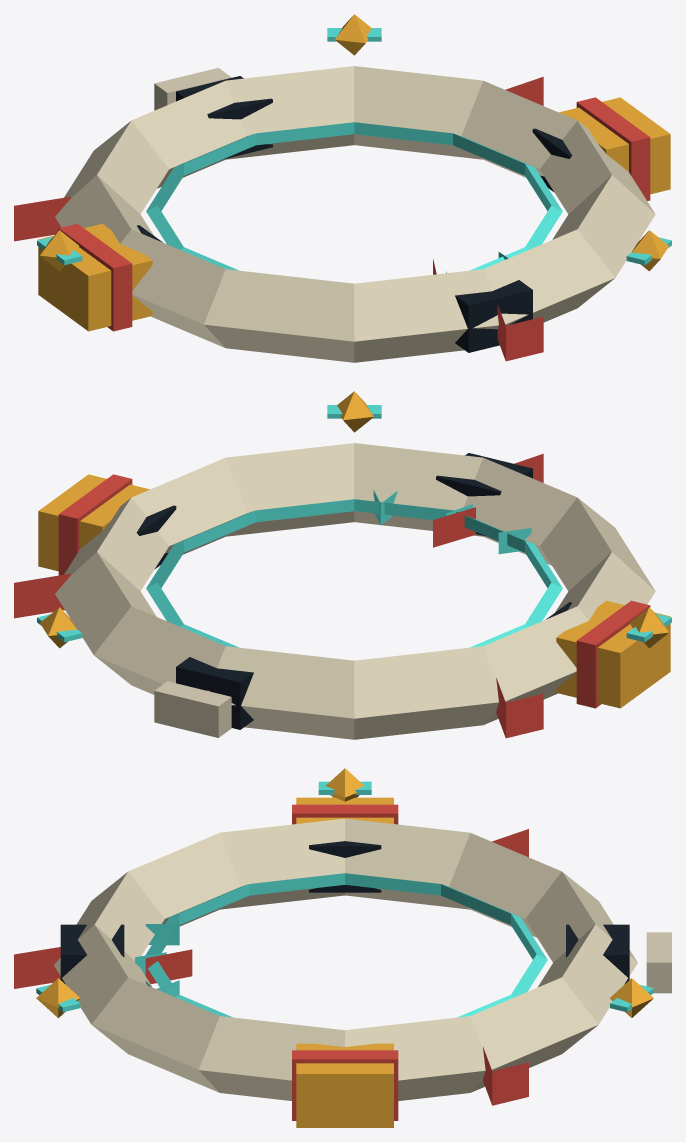
The model's file is checkpoint-ring-kit-v1-CSfiRXpu.glb.
3 views of the same model, one above another, from view 1: azimuth 30°, elevation 25°; view 2: azimuth 150°, elevation 25°; view 3: azimuth 270°, elevation 25° (orthographic). The views are drawn at different scales.
Parts seen in each view (by area): view 1: CPRV1_FacetedRingBody, CPRV1_Supply_CargoCouplers, CPRV1_Charge_ThinRing, CPRV1_FrameArmorSegments, CPRV1_Supply_LockingStraps, CPRV1_Transition_ThreePins, CPRV1_Observation_SatelliteBodies, CPRV1_Transition_CrestBracket, CPRV1_Observation_SatellitePanels; view 2: CPRV1_FacetedRingBody, CPRV1_Supply_CargoCouplers, CPRV1_Charge_ThinRing, CPRV1_Supply_LockingStraps, CPRV1_FrameArmorSegments, CPRV1_Transition_ThreePins, CPRV1_Transition_CrestBracket, CPRV1_Observation_SatelliteBodies, CPRV1_CenterlineMarker, CPRV1_Observation_SatellitePanels, CPRV1_Charge_Pips; view 3: CPRV1_FacetedRingBody, CPRV1_Supply_CargoCouplers, CPRV1_Charge_ThinRing, CPRV1_FrameArmorSegments, CPRV1_Transition_ThreePins, CPRV1_Supply_LockingStraps, CPRV1_Observation_SatelliteBodies, CPRV1_Transition_CrestBracket, CPRV1_CenterlineMarker, CPRV1_Observation_SatellitePanels, CPRV1_Charge_Pips.
Part boxes in pixels (left/top/right/bottom): CPRV1_FacetedRingBody: left=55, top=66, right=655, bottom=362; CPRV1_Supply_CargoCouplers: left=38, top=97, right=670, bottom=331; CPRV1_Charge_ThinRing: left=146, top=122, right=562, bottom=270; CPRV1_FrameArmorSegments: left=137, top=76, right=572, bottom=352; CPRV1_Supply_LockingStraps: left=58, top=97, right=650, bottom=331; CPRV1_Transition_ThreePins: left=14, top=76, right=543, bottom=361; CPRV1_Observation_SatelliteBodies: left=40, top=14, right=668, bottom=271; CPRV1_Transition_CrestBracket: left=154, top=68, right=231, bottom=110; CPRV1_Observation_SatellitePanels: left=37, top=28, right=671, bottom=265; CPRV1_FacetedRingBody: left=55, top=443, right=655, bottom=739; CPRV1_Supply_CargoCouplers: left=38, top=474, right=670, bottom=708; CPRV1_Charge_ThinRing: left=146, top=499, right=562, bottom=647; CPRV1_Supply_LockingStraps: left=58, top=474, right=650, bottom=708; CPRV1_FrameArmorSegments: left=136, top=453, right=571, bottom=729; CPRV1_Transition_ThreePins: left=14, top=453, right=543, bottom=738; CPRV1_Transition_CrestBracket: left=154, top=681, right=231, bottom=737; CPRV1_Observation_SatelliteBodies: left=40, top=391, right=668, bottom=648; CPRV1_CenterlineMarker: left=433, top=507, right=475, bottom=547; CPRV1_Observation_SatellitePanels: left=37, top=405, right=671, bottom=642; CPRV1_Charge_Pips: left=373, top=490, right=531, bottom=554; CPRV1_FacetedRingBody: left=54, top=818, right=637, bottom=1100; CPRV1_Supply_CargoCouplers: left=296, top=797, right=393, bottom=1127; CPRV1_Charge_ThinRing: left=145, top=873, right=547, bottom=1017; CPRV1_FrameArmorSegments: left=60, top=841, right=629, bottom=984; CPRV1_Transition_ThreePins: left=14, top=829, right=528, bottom=1105; CPRV1_Supply_LockingStraps: left=292, top=804, right=398, bottom=1120; CPRV1_Observation_SatelliteBodies: left=36, top=768, right=653, bottom=1018; CPRV1_Transition_CrestBracket: left=646, top=932, right=671, bottom=993; CPRV1_CenterlineMarker: left=145, top=949, right=192, bottom=983; CPRV1_Observation_SatellitePanels: left=36, top=781, right=653, bottom=1012; CPRV1_Charge_Pips: left=135, top=924, right=179, bottom=994.
Bounding box in the file's own units: 3.2 × 0.485 × 3.1.
